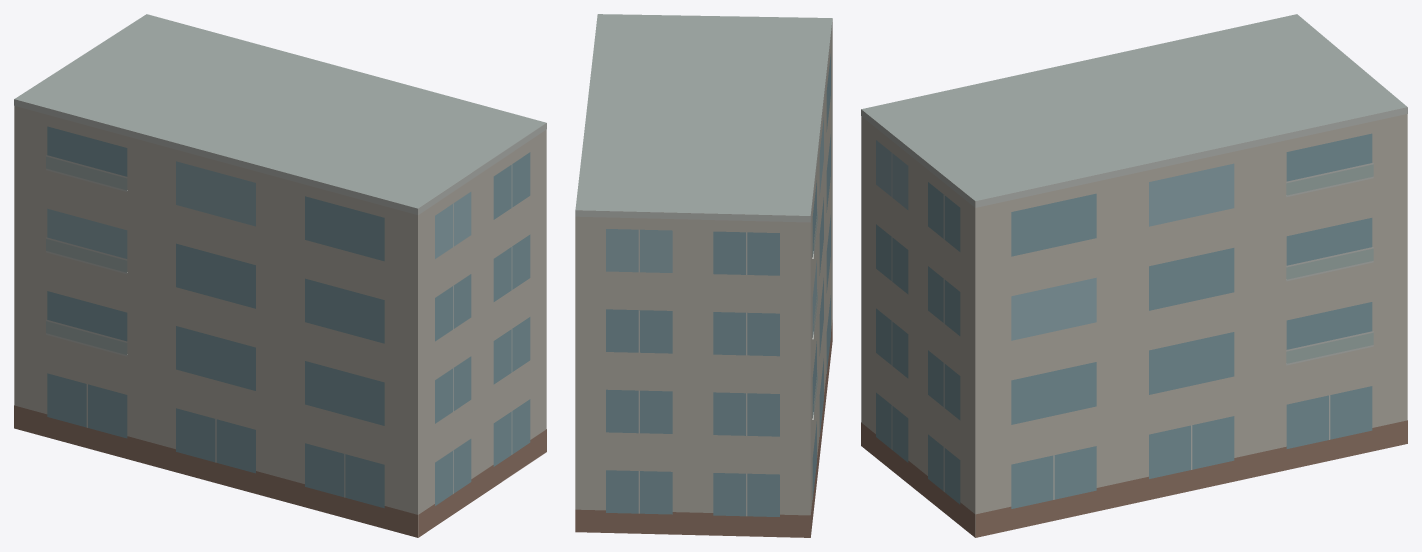
Rendered from survey-upis-32703228.glb.
3 views of the same model, side by side, from view 1: azimuth 30°, elevation 25°; view 2: azimuth 150°, elevation 25°; view 3: azimuth 270°, elevation 25° (orthographic). The views are drawn at different scales.
Visible parts, largest first — view 1: survey-upis-32703228.tmp; view 2: survey-upis-32703228.tmp; view 3: survey-upis-32703228.tmp.
Boxes of the visible parts, x1,y1,x2,y2 form: survey-upis-32703228.tmp: [14, 14, 546, 537]; survey-upis-32703228.tmp: [575, 14, 832, 537]; survey-upis-32703228.tmp: [861, 14, 1407, 537].
Size of the model in its own units: 14.56 by 12.2 by 17.96.
